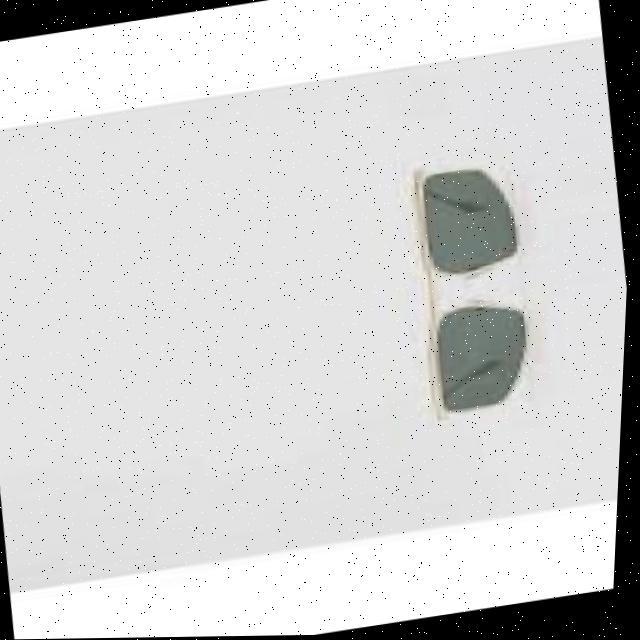gozluk: (386, 154, 557, 431)
